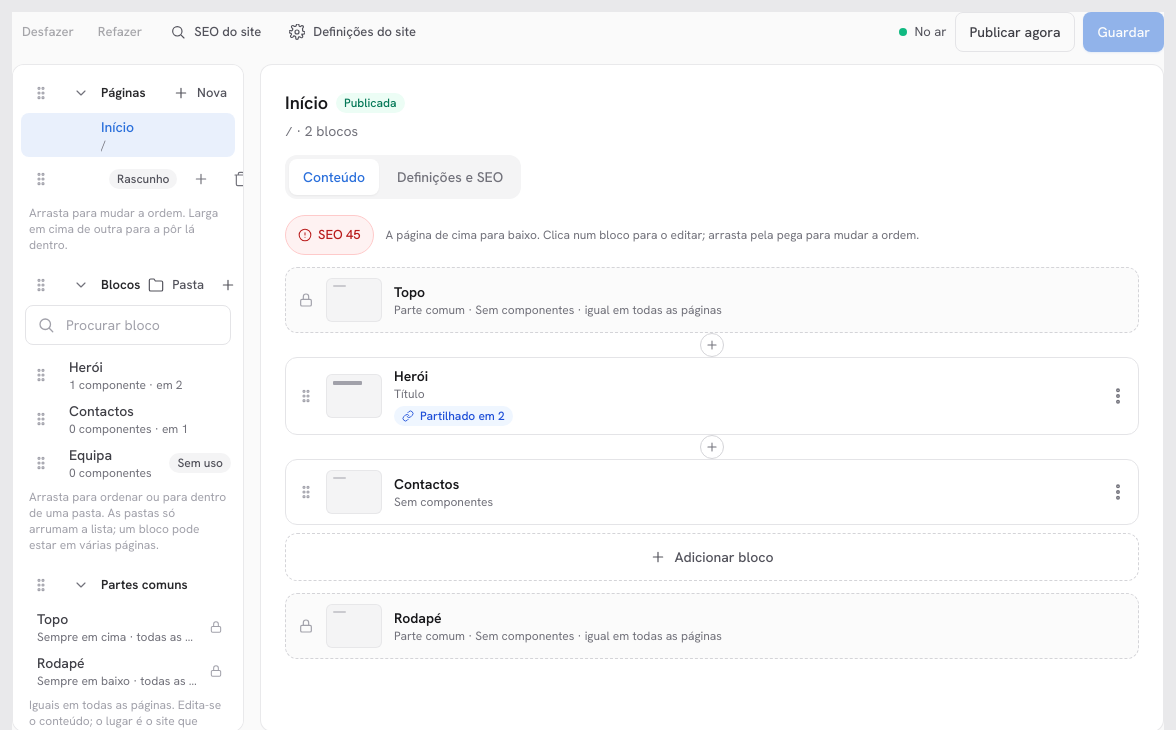
Paginas · conteúdo da página › esconder mostra o selo e muda o menu para Mostrar
This screenshot has width=1176, height=730.
Click the button named "Mais opções de Contactos".
click(1118, 492)  # box [1098,472,1138,512]
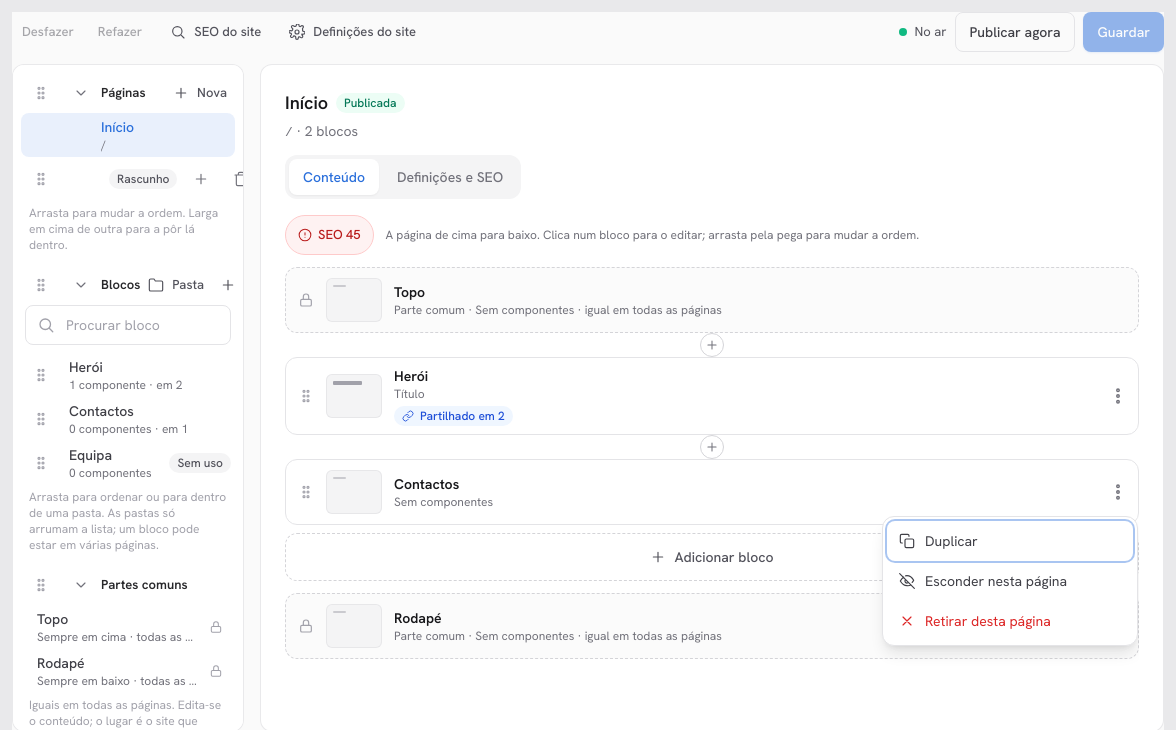
Click the menu item "Esconder nesta página".
click(1010, 581)  # box [887,561,1133,601]
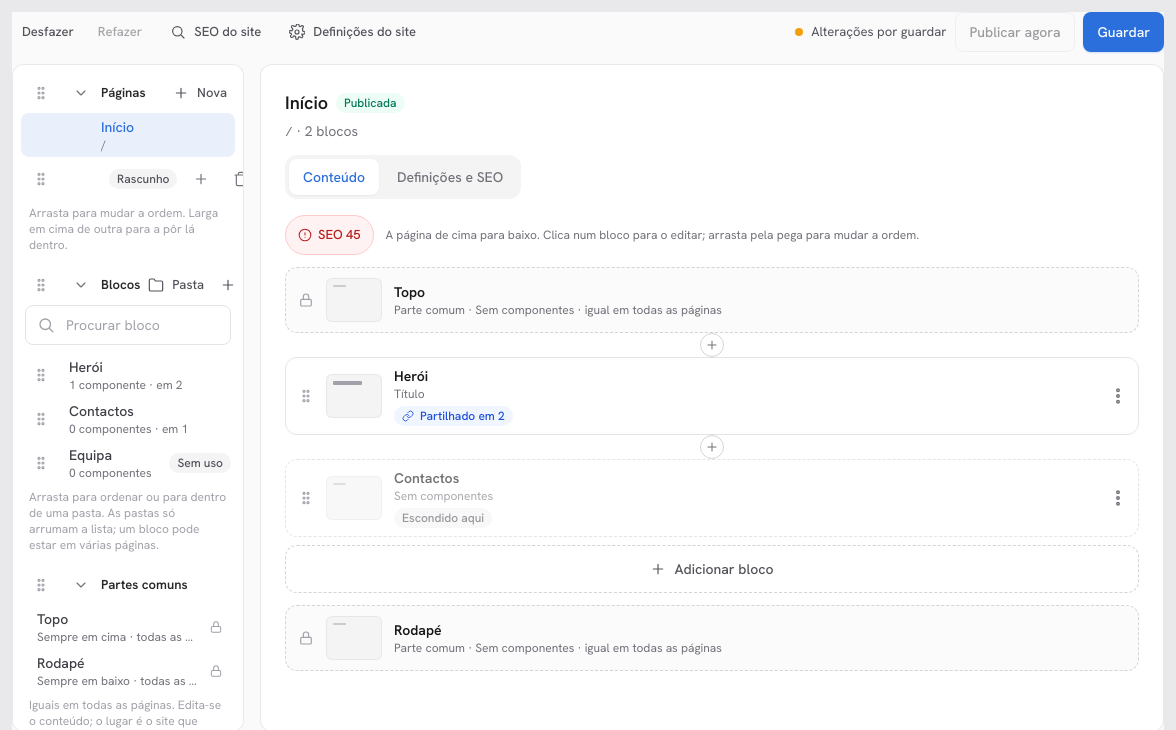
Result: the text "Escondido aqui" is shown at [394,508,492,528]
Click the button named "Mais opções de Contactos".
click(1118, 498)  # box [1098,478,1138,518]
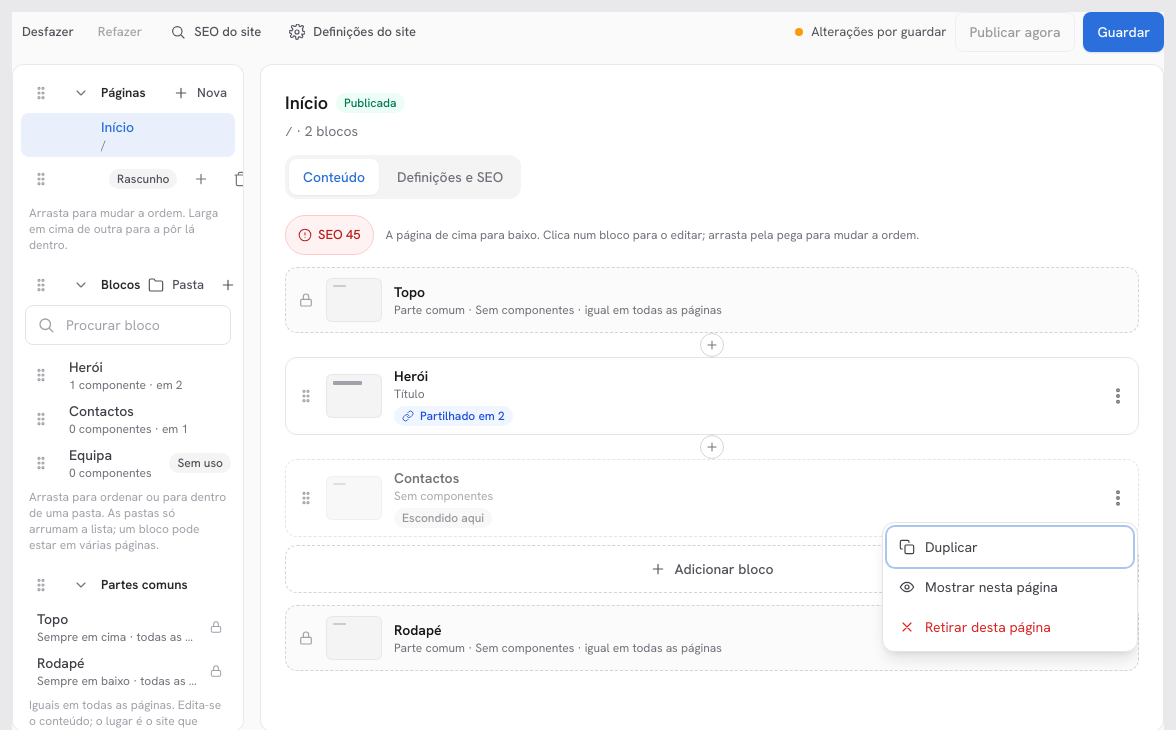
Result: the menu item "Mostrar nesta página" is shown at [887,567,1133,607]
